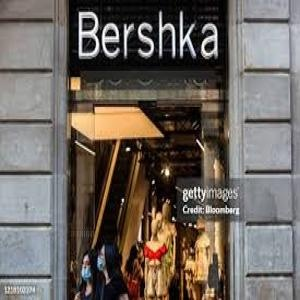bershka: (185, 3, 258, 9)
